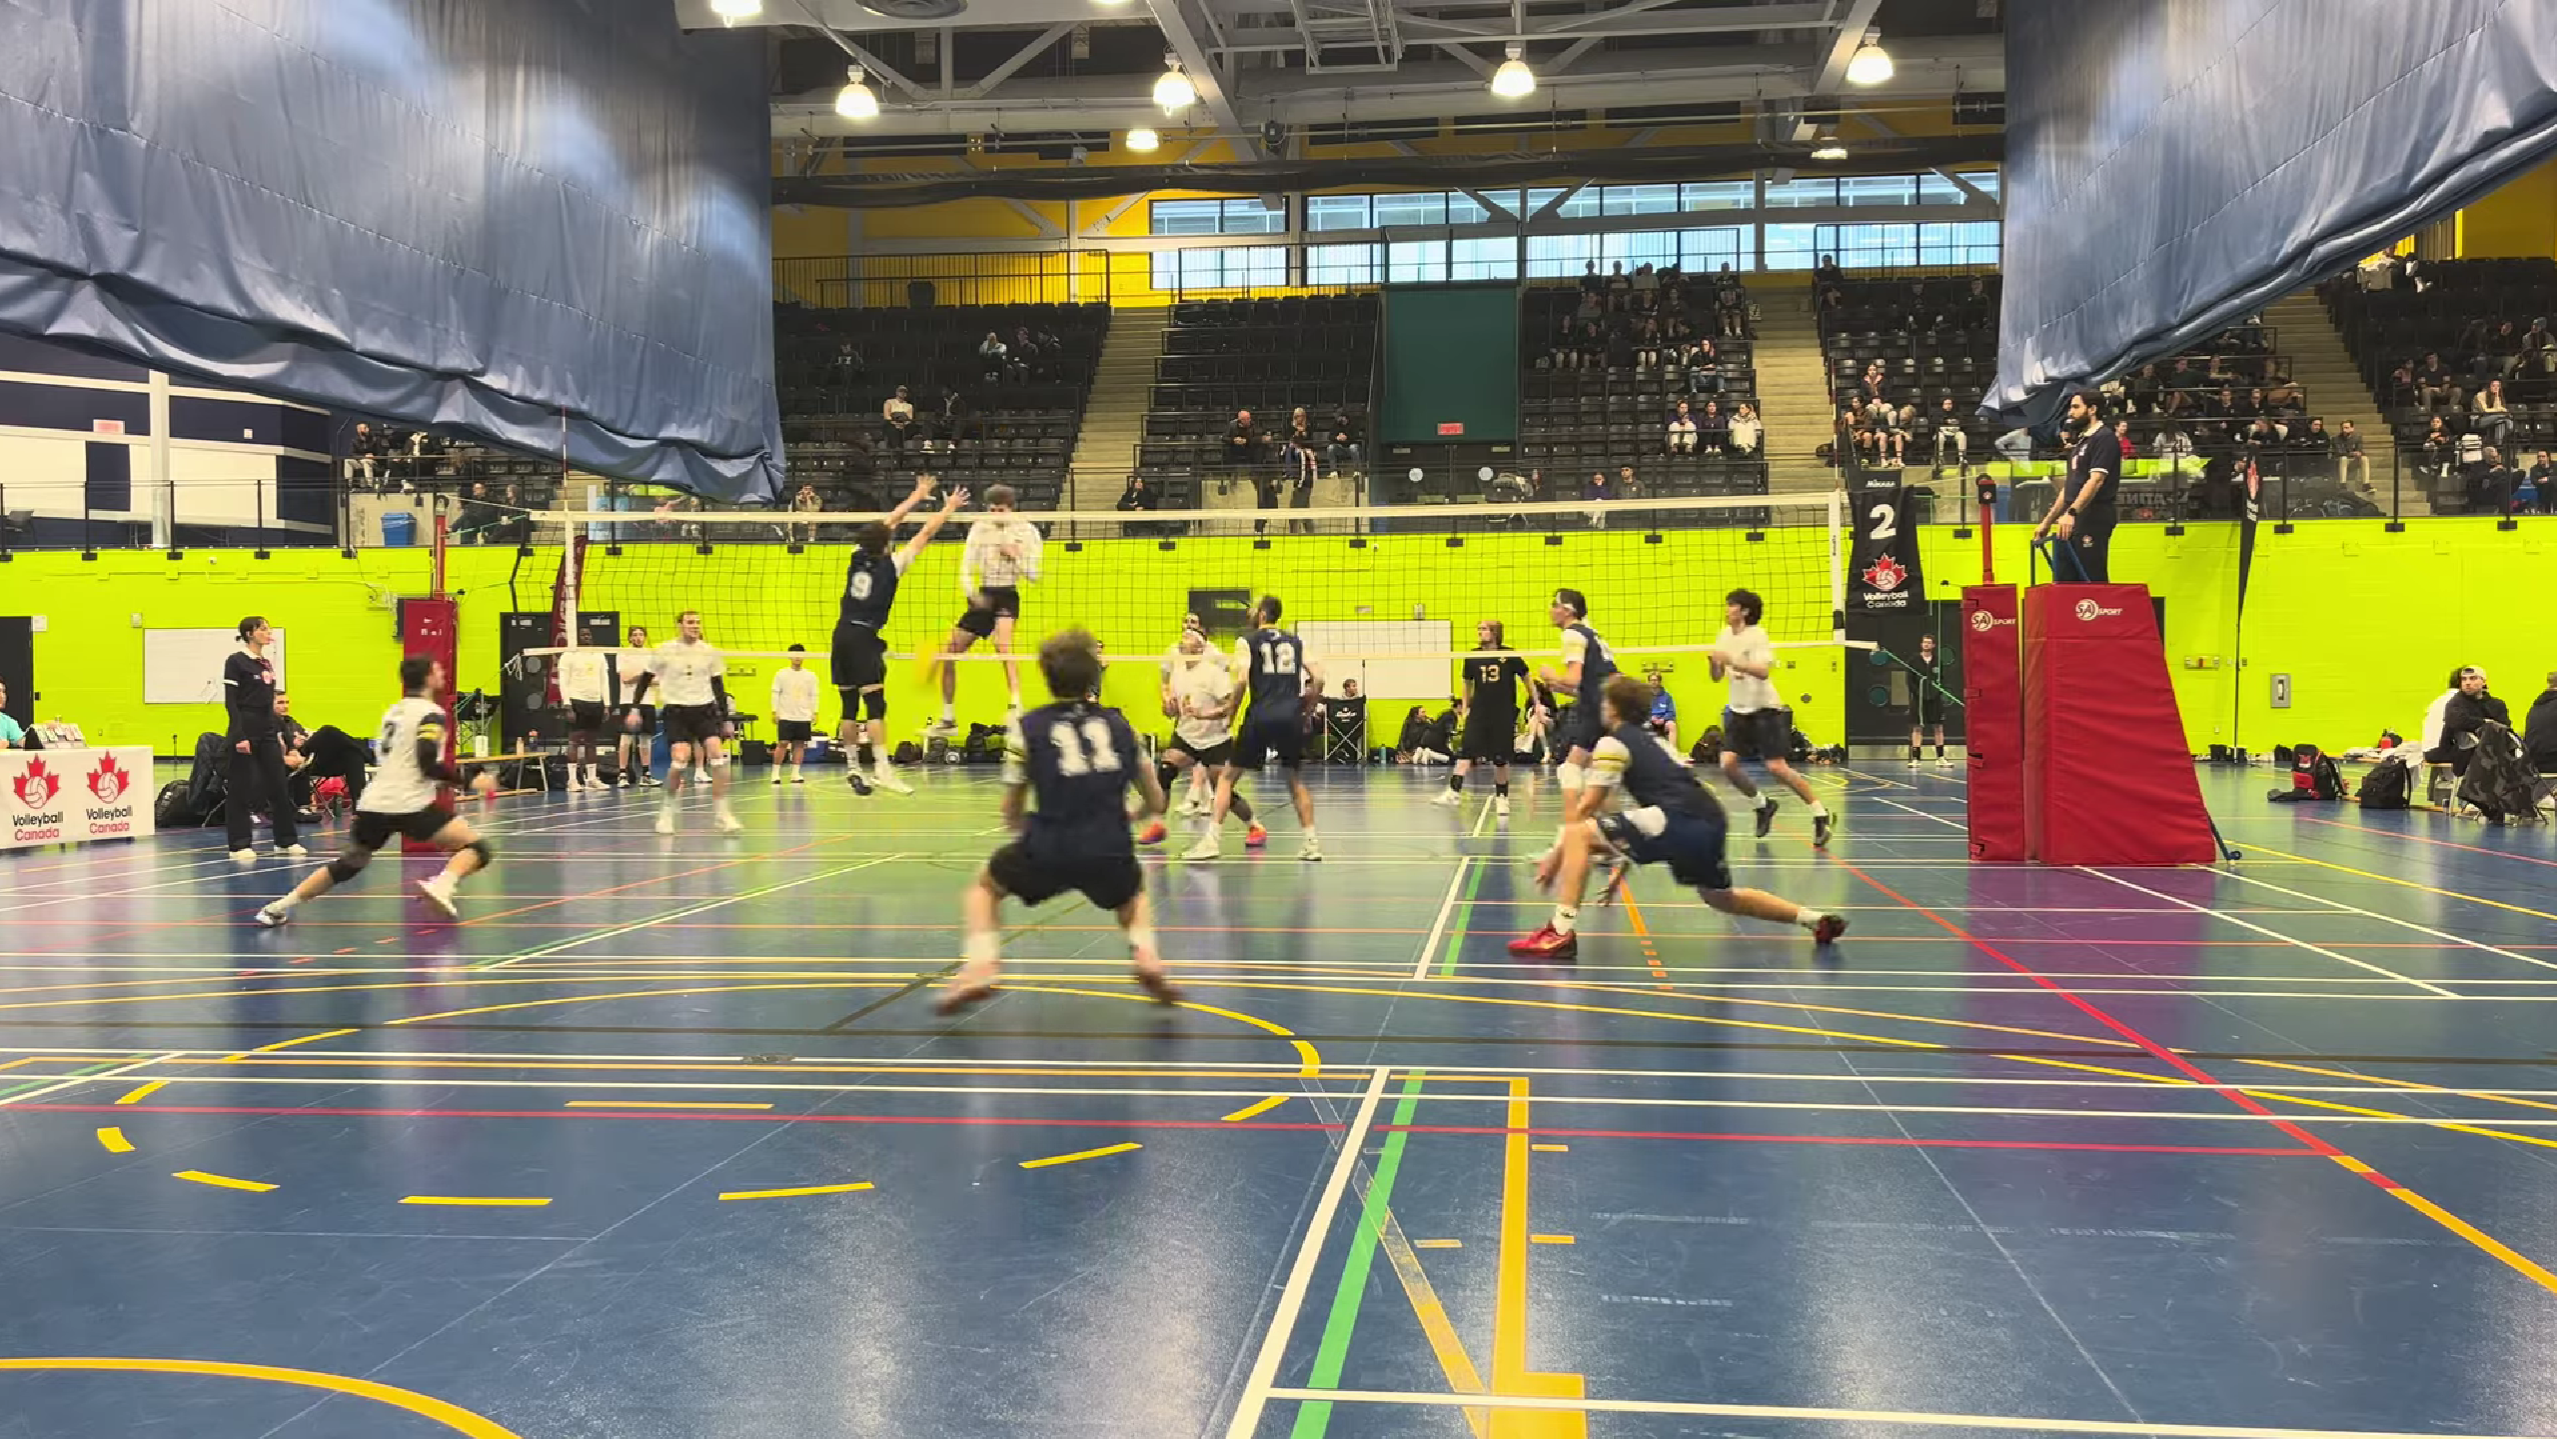Ball: (908, 638, 955, 691)
